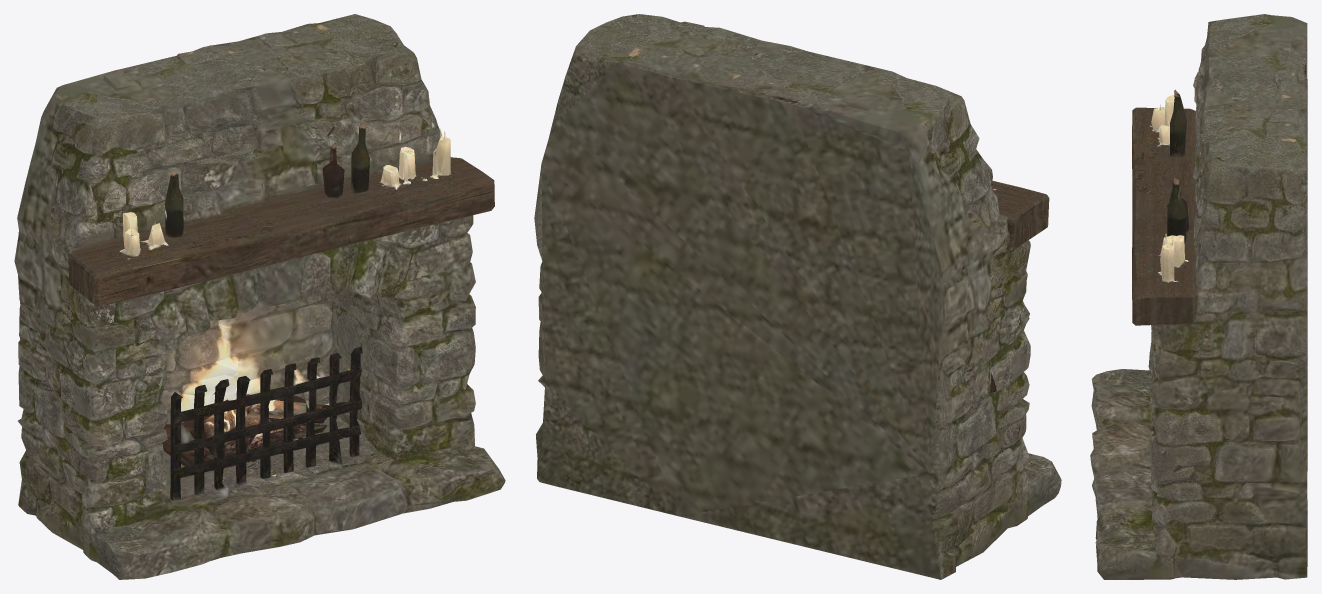
Rendered from fp_best_webp.glb.
The picture shows the model from 3 angles, left to right: view 1: azimuth 30°, elevation 25°; view 2: azimuth 150°, elevation 25°; view 3: azimuth 270°, elevation 25°; orthographic projection. The views are drawn at different scales.
Parts seen in each view (by area): view 1: Mesh_0; view 2: Mesh_0; view 3: Mesh_0.
Boxes of the visible parts, bbox=[...] form: Mesh_0: bbox=[14, 14, 505, 579]; Mesh_0: bbox=[534, 14, 1061, 579]; Mesh_0: bbox=[1090, 14, 1307, 579].
Size of the model in its own units: 1.9 by 1.9 by 0.919.
1 material, 1 textured.
